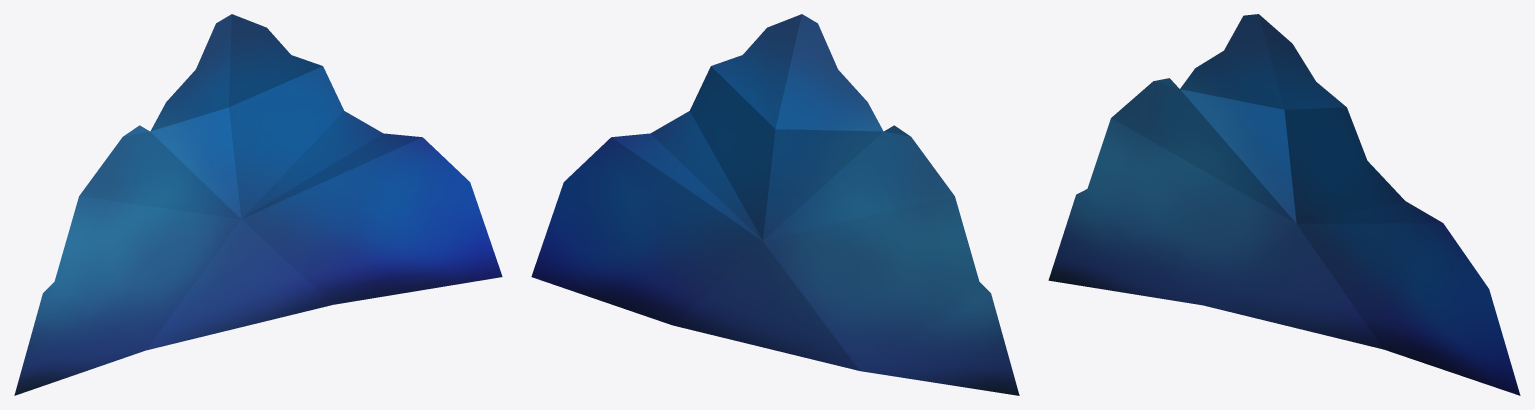
The model's file is Terrain_SnowMountain_Far_1.fbx.
The picture shows the model from 3 angles, left to right: view 1: azimuth 30°, elevation 25°; view 2: azimuth 150°, elevation 25°; view 3: azimuth 330°, elevation 25°; orthographic projection. The views are drawn at different scales.
Visible parts, largest first — view 1: terrain_mountain_far_402; view 2: terrain_mountain_far_402; view 3: terrain_mountain_far_402.
Part boxes in pixels (x1=…): terrain_mountain_far_402: x1=14, y1=14, x2=502, y2=395; terrain_mountain_far_402: x1=531, y1=14, x2=1019, y2=395; terrain_mountain_far_402: x1=1048, y1=14, x2=1520, y2=395.
Size of the model in its own units: 14104 by 9088 by 742.
Materials: 1 (1 with a texture image).
